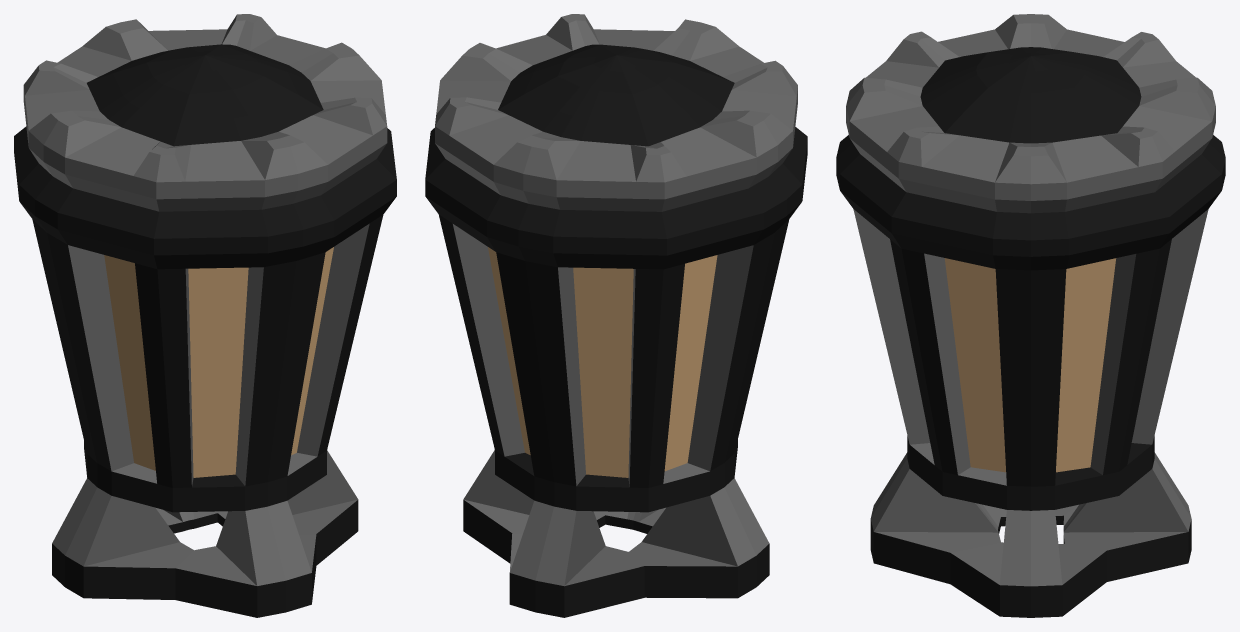
Rendered from Lantern.fbx.
The picture shows the model from 3 angles, left to right: view 1: azimuth 30°, elevation 25°; view 2: azimuth 150°, elevation 25°; view 3: azimuth 270°, elevation 25°; orthographic projection.
Parts seen in each view (by area): view 1: Lantern; view 2: Lantern; view 3: Lantern.
Boxes of the visible parts, x1,y1,x2,y2 form: Lantern: (14, 14, 396, 617); Lantern: (425, 14, 807, 617); Lantern: (836, 14, 1225, 617).
Size of the model in its own units: 87.1 by 122 by 87.1.
